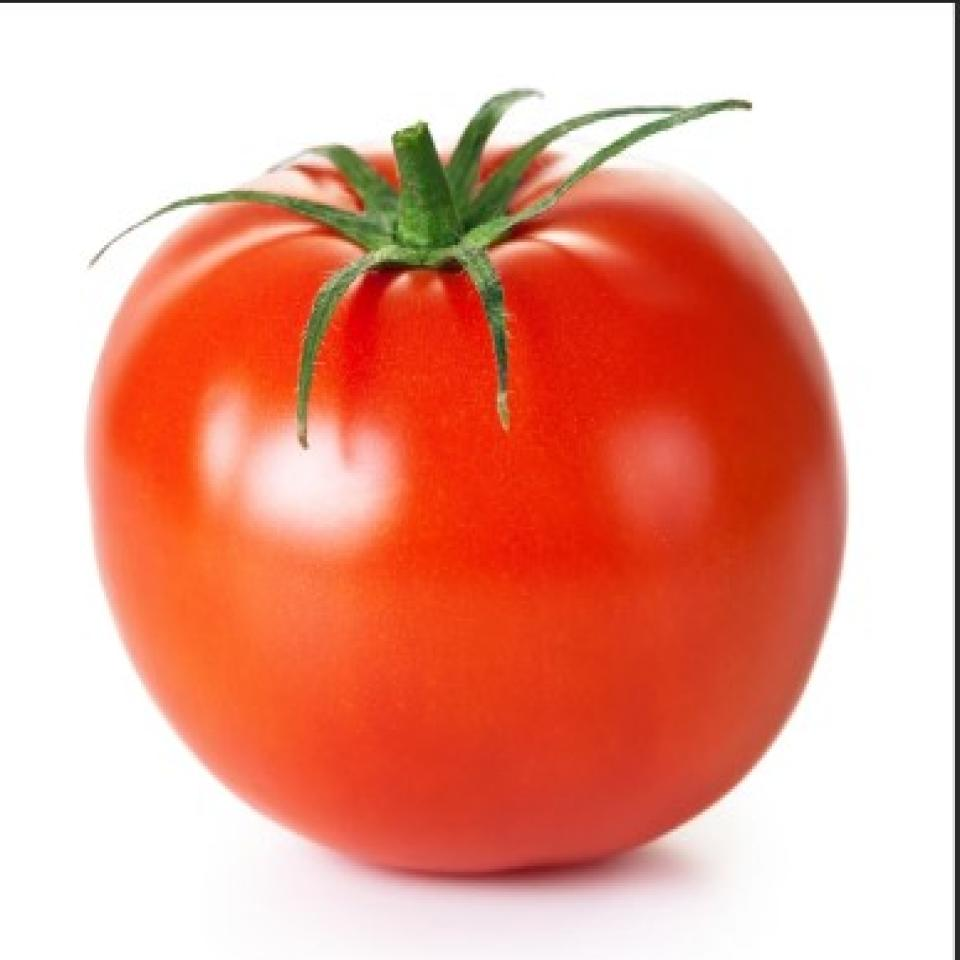Healthy: (86, 114, 868, 877)
